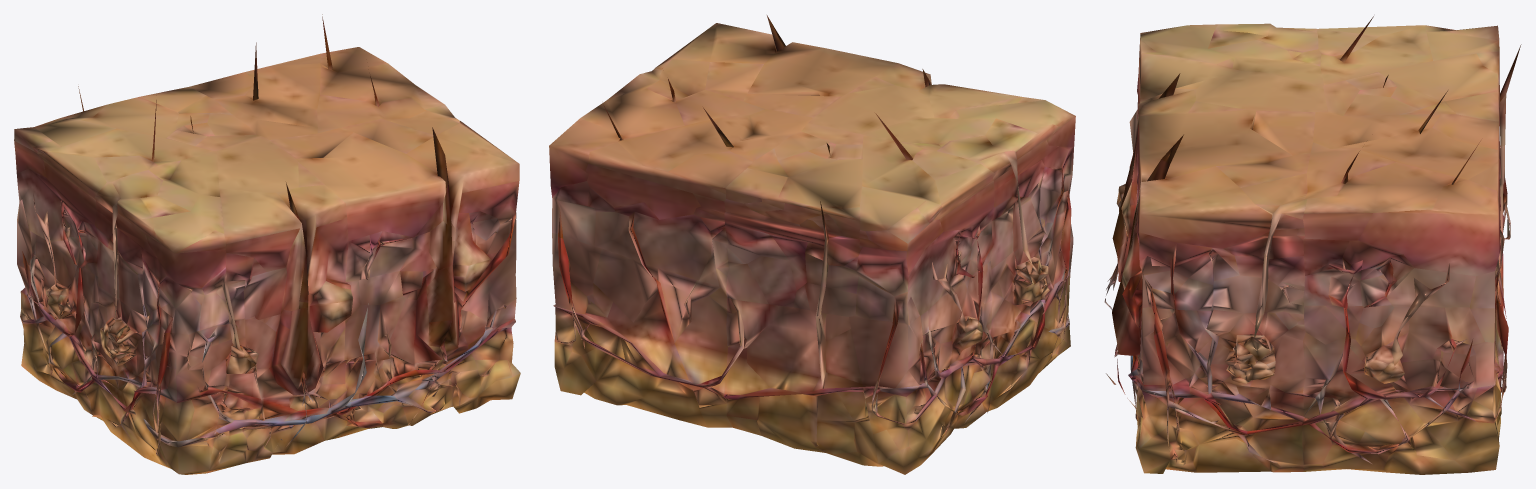
The model's file is skin-lod2.glb.
3 views of the same model, side by side, from view 1: azimuth 30°, elevation 25°; view 2: azimuth 150°, elevation 25°; view 3: azimuth 270°, elevation 25° (orthographic). The views are drawn at different scales.
Parts seen in each view (by area): view 1: tripo_node_e5876caf-7f3d-4121-9468-4d7c567ae73f; view 2: tripo_node_e5876caf-7f3d-4121-9468-4d7c567ae73f; view 3: tripo_node_e5876caf-7f3d-4121-9468-4d7c567ae73f.
Boxes of the visible parts, x1=… form: tripo_node_e5876caf-7f3d-4121-9468-4d7c567ae73f: x1=14, y1=14, x2=520, y2=474; tripo_node_e5876caf-7f3d-4121-9468-4d7c567ae73f: x1=549, y1=15, x2=1075, y2=474; tripo_node_e5876caf-7f3d-4121-9468-4d7c567ae73f: x1=1104, y1=16, x2=1521, y2=474.
Size of the model in its own units: 0.9603 by 0.7138 by 0.8115.
Materials: 1 (1 with a texture image).
